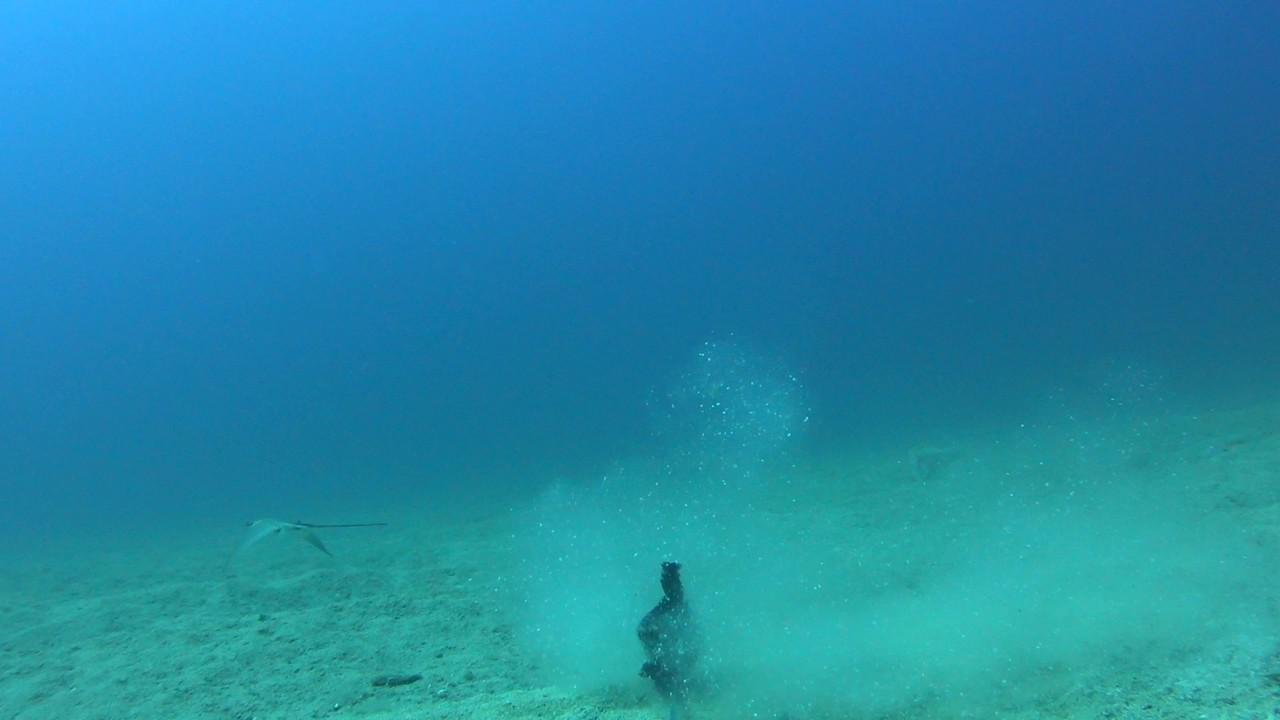myliobatis: (214, 485, 409, 578)
